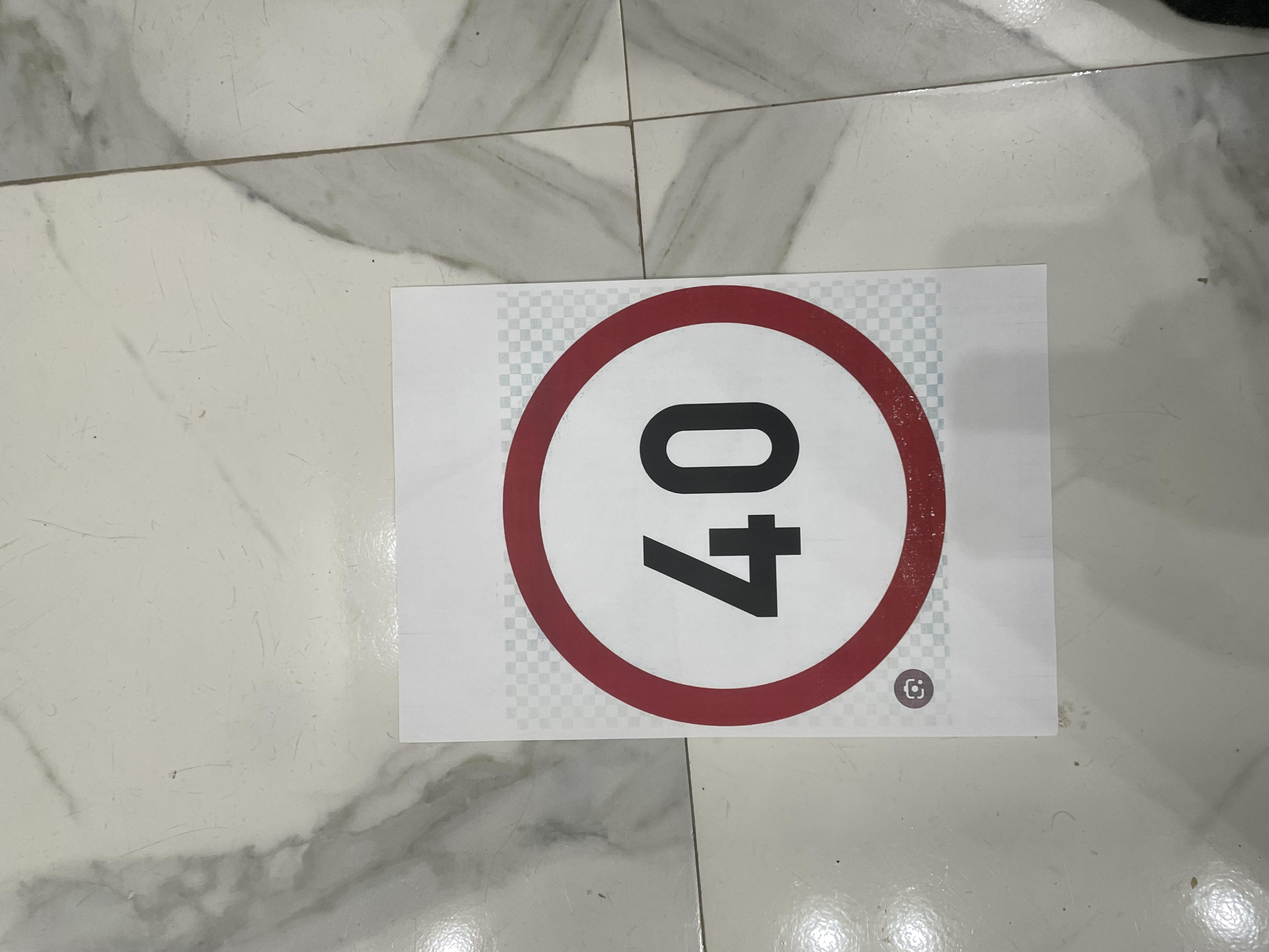40-Speed: (261, 369, 925, 717)
